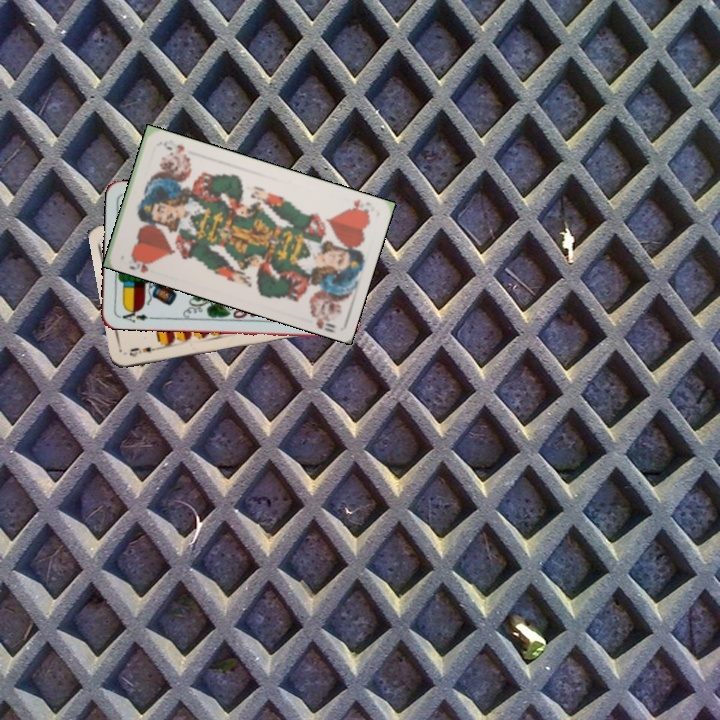E9: (125, 342, 163, 360)
EA: (115, 305, 150, 325)
HO: (126, 250, 158, 275), (344, 195, 372, 219)
